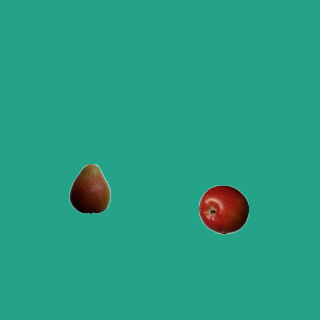Apple Braeburn: (198, 184, 248, 234)
Pear Forelle: (64, 163, 114, 213)
